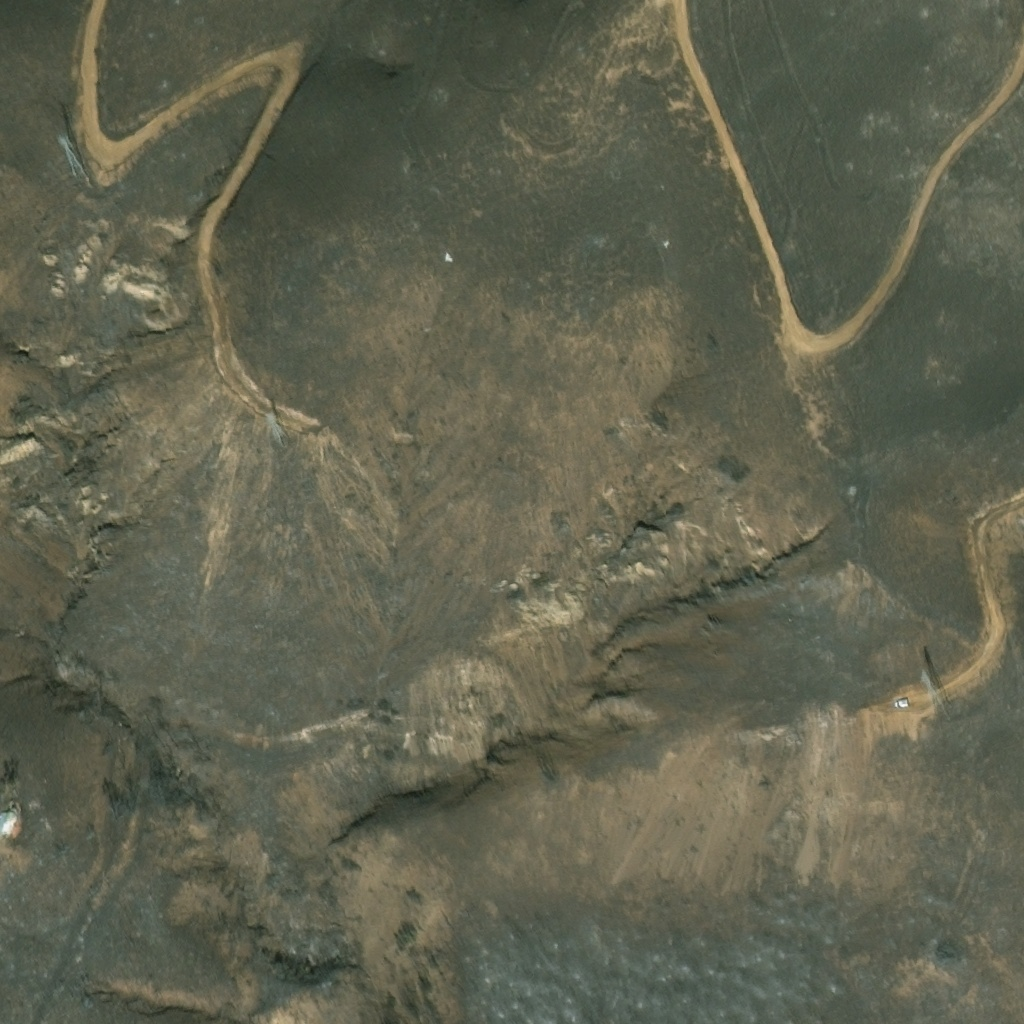3 destroyed: (0, 816, 16, 840), (848, 487, 856, 496)
